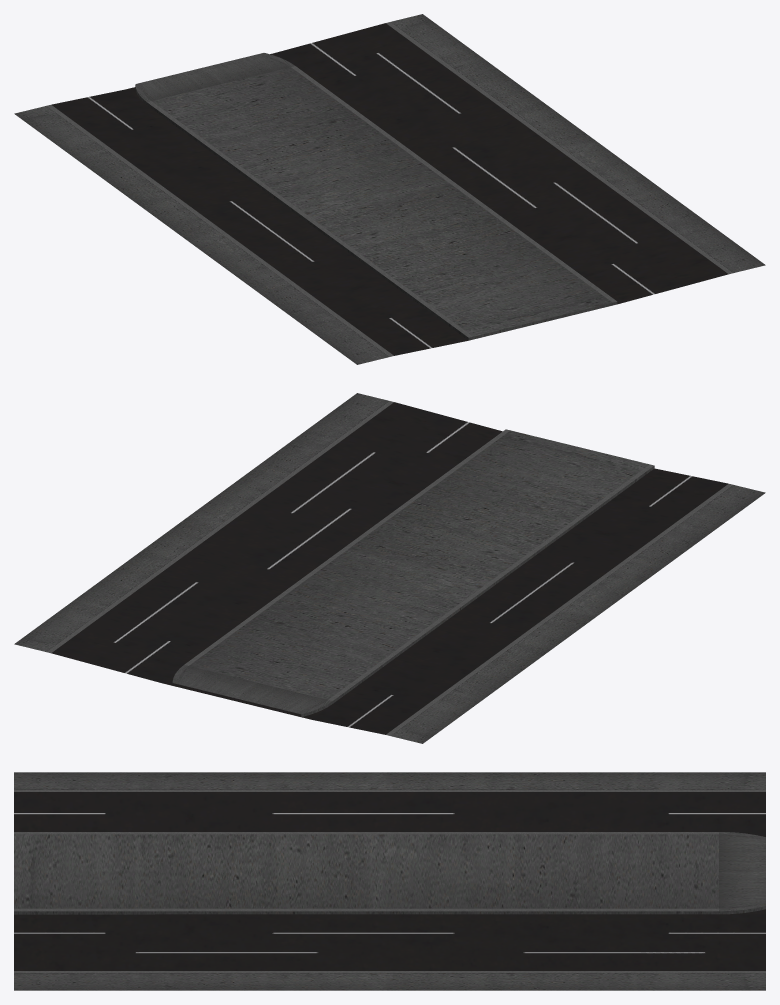
Rendered from RJs_Road Pass 2+4+2 Basic Segment_UT_lod.fbx.
3 renders of one model, top to bottom at view 1: azimuth 30°, elevation 25°; view 2: azimuth 150°, elevation 25°; view 3: azimuth 270°, elevation 25°, orthographic. The views are drawn at different scales.
Visible parts, largest first — view 1: plane_s_lod; view 2: plane_s_lod; view 3: plane_s_lod.
Boxes of the visible parts, x1=… form: plane_s_lod: x1=14, y1=14, x2=765, y2=364; plane_s_lod: x1=14, y1=393, x2=765, y2=743; plane_s_lod: x1=14, y1=772, x2=765, y2=990.
Bounding box in the file's own units: 4400 × 6400 × 30.1.
